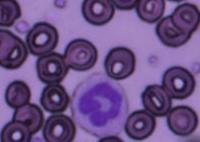N: (70, 71, 130, 138)
